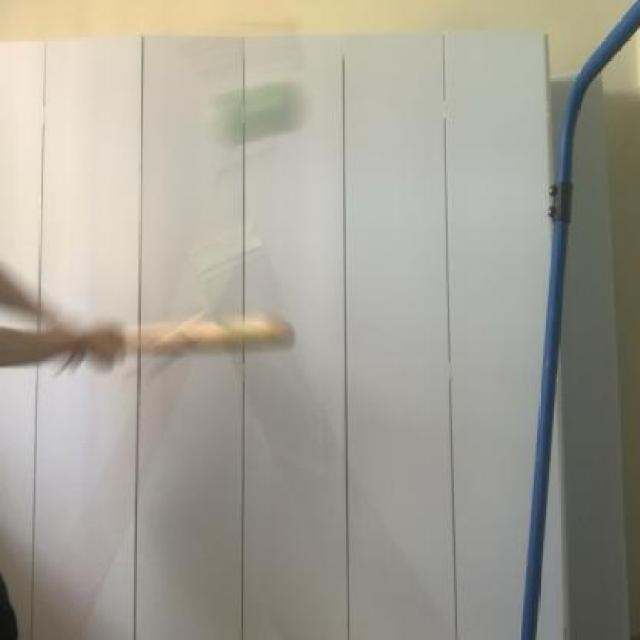baseball: (196, 66, 319, 151)
